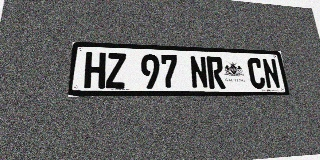7: (160, 55, 179, 89)
9: (141, 54, 160, 89)
C: (247, 58, 266, 89)
H: (84, 52, 106, 88)
N: (189, 56, 209, 89), (261, 58, 281, 89)
R: (206, 56, 226, 89)
Z: (106, 53, 126, 89)
